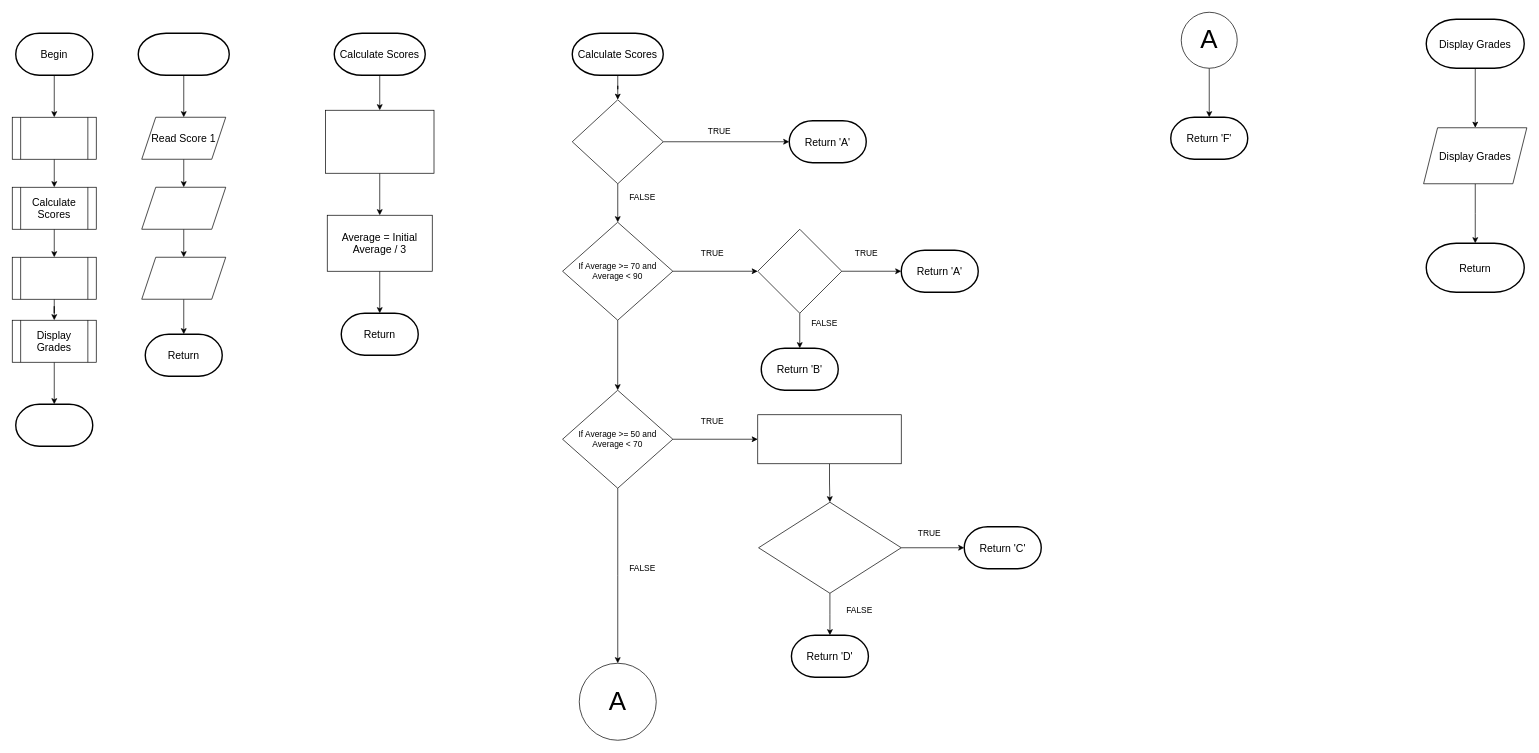
This 1539x753 diagram has some shape labels left out. The centre of each missing label's shape, as x and y in pixels:
"Average of Score 2 and 3 = (Score 2 + Score 3)" goes at pixel 829 439.
"End" goes at pixel 54 425.
"Grades" goes at pixel 54 278.
"If Average >= 90" goes at pixel 617 141.
"If Average of Score 2 and 3 > 70" goes at pixel 829 547.
"If Score 3 > 90" goes at pixel 799 271.
"Initial Average = Score 1 + Score 2 + Score 3" goes at pixel 379 141.
"Input Grades" goes at pixel 183 54.
"Input Scores" goes at pixel 54 138.
"Read Score 2" goes at pixel 183 208.
"Read Score 3" goes at pixel 183 278.
